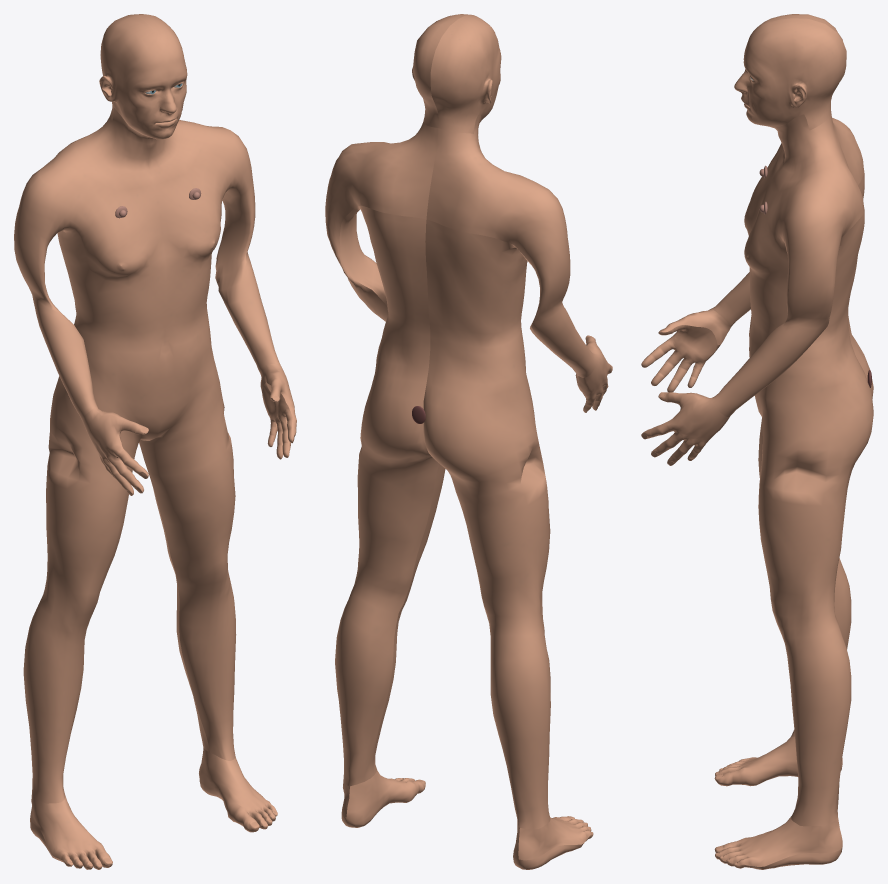
Rendered from body-erwachsener-divers-unbekannt-keine-brueste-real-v3.glb.
The picture shows the model from 3 angles, left to right: view 1: azimuth 30°, elevation 25°; view 2: azimuth 150°, elevation 25°; view 3: azimuth 270°, elevation 25°; orthographic projection.
Visible parts, largest first — view 1: real-human-body; view 2: real-human-body; view 3: real-human-body.
Part boxes in pixels (x1,y1,x2,y2): real-human-body: (14, 14, 296, 869); real-human-body: (325, 14, 612, 869); real-human-body: (641, 14, 873, 869).
Size of the model in its own units: 0.521 by 1.72 by 0.4518.
Materials: 7 (1 with a texture image).
